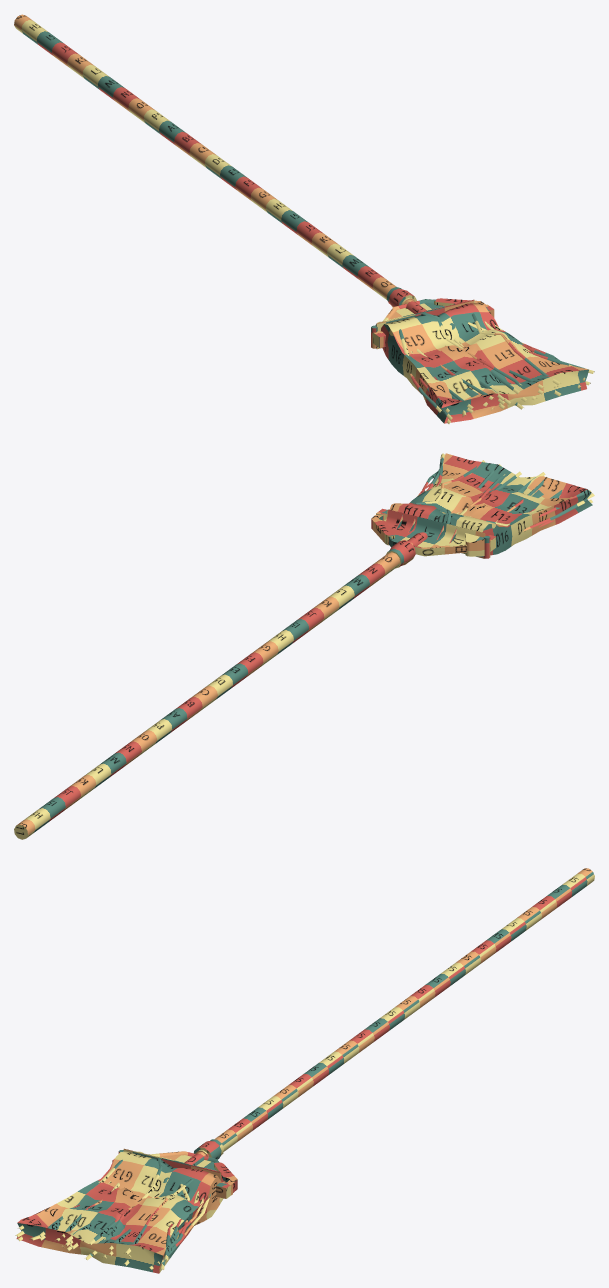
File: SM_Mop_01b.fbx
3 views of the same model, one above another, from view 1: azimuth 30°, elevation 25°; view 2: azimuth 150°, elevation 25°; view 3: azimuth 330°, elevation 25° (orthographic).
Parts seen in each view (by area): view 1: SM_Mop_01b1; view 2: SM_Mop_01b1; view 3: SM_Mop_01b1.
Boxes of the visible parts, <box> form: SM_Mop_01b1: <box>14,14,594,423</box>; SM_Mop_01b1: <box>14,453,594,839</box>; SM_Mop_01b1: <box>15,868,594,1273</box>.
Bounding box in the file's own units: 32.54 × 8.29 × 186.
1 material, 1 textured.
